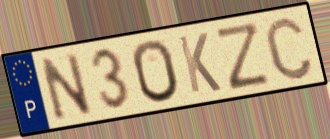3: (89, 45, 133, 113)
C: (262, 14, 316, 83)
K: (176, 31, 224, 96)
N: (37, 50, 96, 124)
O: (130, 38, 182, 106)
Z: (213, 19, 273, 93)
